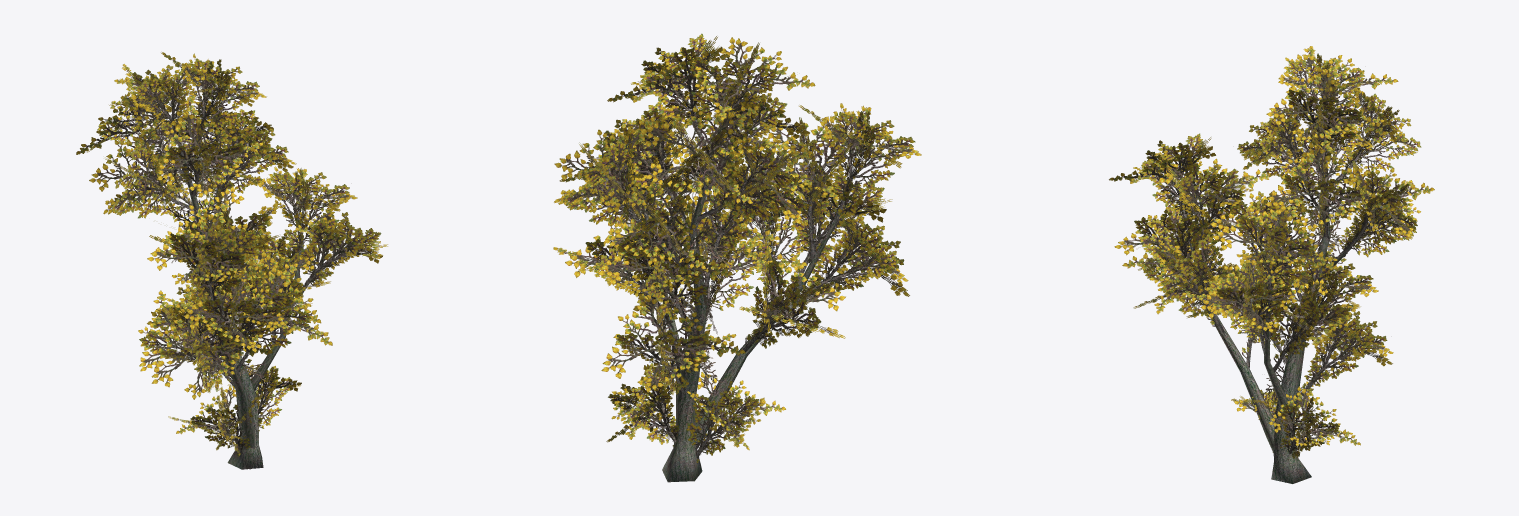
Rendered from flora_tree_poplar_lombardy_autumn_v3.glb.
3 views of the same model, side by side, from view 1: azimuth 30°, elevation 25°; view 2: azimuth 150°, elevation 25°; view 3: azimuth 270°, elevation 25° (orthographic). The views are drawn at different scales.
Parts seen in each view (by area): view 1: flora_tree_poplar_lombardy_autumn_v3_part0; view 2: flora_tree_poplar_lombardy_autumn_v3_part0; view 3: flora_tree_poplar_lombardy_autumn_v3_part0.
Part boxes in pixels (x1,y1,x2,y2): flora_tree_poplar_lombardy_autumn_v3_part0: (76, 52, 387, 469); flora_tree_poplar_lombardy_autumn_v3_part0: (553, 33, 921, 482); flora_tree_poplar_lombardy_autumn_v3_part0: (1109, 46, 1434, 483).
Bounding box in the file's own units: 24.28 × 27.18 × 28.17.
1 material, 1 textured.
